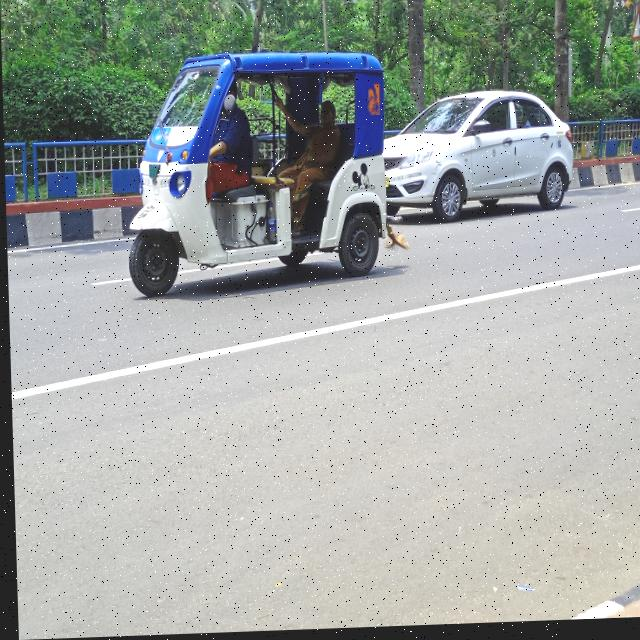car: (381, 72, 590, 226)
